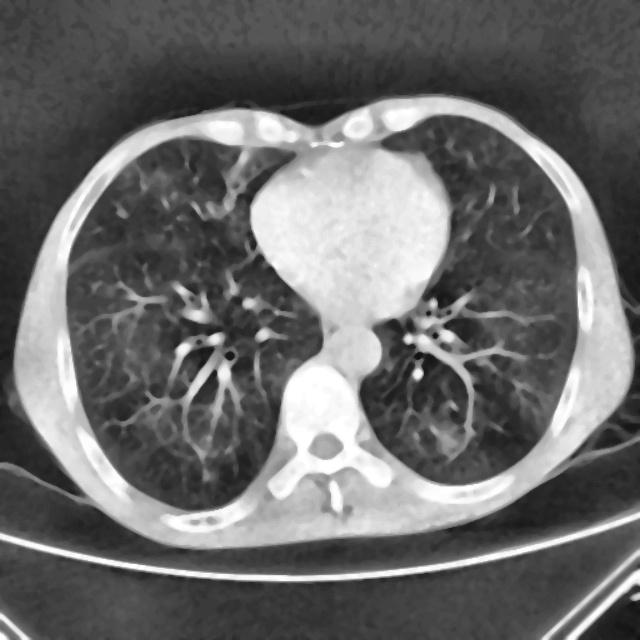covid: (10, 93, 636, 551)
